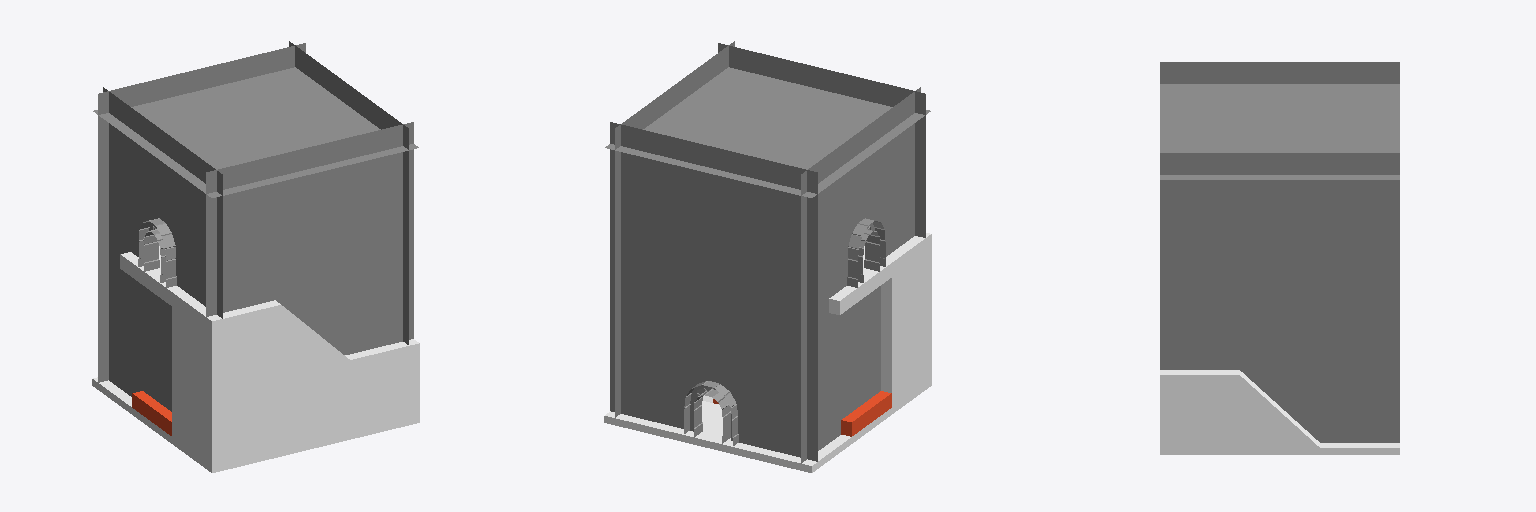
The model's file is cornerStairsR.obj.
3 renders of one model, left to right at view 1: azimuth 30°, elevation 25°; view 2: azimuth 150°, elevation 25°; view 3: azimuth 270°, elevation 25°, orthographic.
Visible parts, largest first — view 1: struct_wall_main_half_8, block_default_0, struct_ceiling_10, block_default_1, struct_wall_main_half_4, struct_wall_main_half_3, struct_wall_main_half_7, struct_door_0, block_default_7, slope_default_3, struct_wall_main_half_2, struct_wall_main_half_1 (+2 smaller); view 2: struct_wall_main_half_7, struct_ceiling_10, struct_wall_main_half_3, struct_wall_main_half_8, struct_wall_main_half_4, struct_door_0, block_default_0, struct_wall_main_half_2, block_default_7, struct_wall_main_half_1, block_default_5, open_block_6; view 3: struct_wall_main_half_8, struct_ceiling_10, block_default_1, struct_wall_main_half_3, slope_default_4, block_default_7.
Part boxes in pixels (bbox=[...]): struct_wall_main_half_8: bbox=[206, 41, 413, 354]; block_default_0: bbox=[172, 290, 280, 465]; struct_ceiling_10: bbox=[93, 67, 418, 197]; block_default_1: bbox=[281, 339, 419, 448]; struct_wall_main_half_4: bbox=[109, 236, 171, 411]; struct_wall_main_half_3: bbox=[98, 87, 222, 382]; struct_wall_main_half_7: bbox=[98, 43, 305, 310]; struct_door_0: bbox=[138, 189, 182, 289]; block_default_7: bbox=[92, 377, 419, 472]; slope_default_3: bbox=[281, 305, 349, 376]; struct_wall_main_half_2: bbox=[109, 164, 142, 256]; struct_wall_main_half_1: bbox=[183, 218, 222, 318]; struct_wall_main_half_7: bbox=[610, 122, 817, 388]; struct_ceiling_10: bbox=[605, 67, 930, 197]; struct_wall_main_half_3: bbox=[749, 87, 920, 461]; struct_wall_main_half_8: bbox=[615, 41, 925, 417]; struct_wall_main_half_4: bbox=[801, 286, 880, 463]; struct_door_0: bbox=[680, 189, 885, 445]; block_default_0: bbox=[863, 233, 931, 406]; struct_wall_main_half_2: bbox=[610, 218, 840, 427]; block_default_7: bbox=[604, 379, 931, 472]; struct_wall_main_half_1: bbox=[881, 164, 914, 256]; block_default_5: bbox=[829, 256, 891, 314]; open_block_6: bbox=[713, 391, 891, 436]; struct_wall_main_half_8: bbox=[1160, 153, 1399, 442]; struct_ceiling_10: bbox=[1160, 84, 1399, 179]; block_default_1: bbox=[1160, 370, 1239, 447]; struct_wall_main_half_3: bbox=[1160, 62, 1399, 83]; slope_default_4: bbox=[1240, 371, 1319, 447]; block_default_7: bbox=[1160, 443, 1399, 454].
Bounding box in the file's own units: 3 × 4.1 × 3.